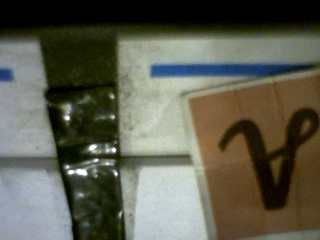A: (189, 72, 320, 240)
